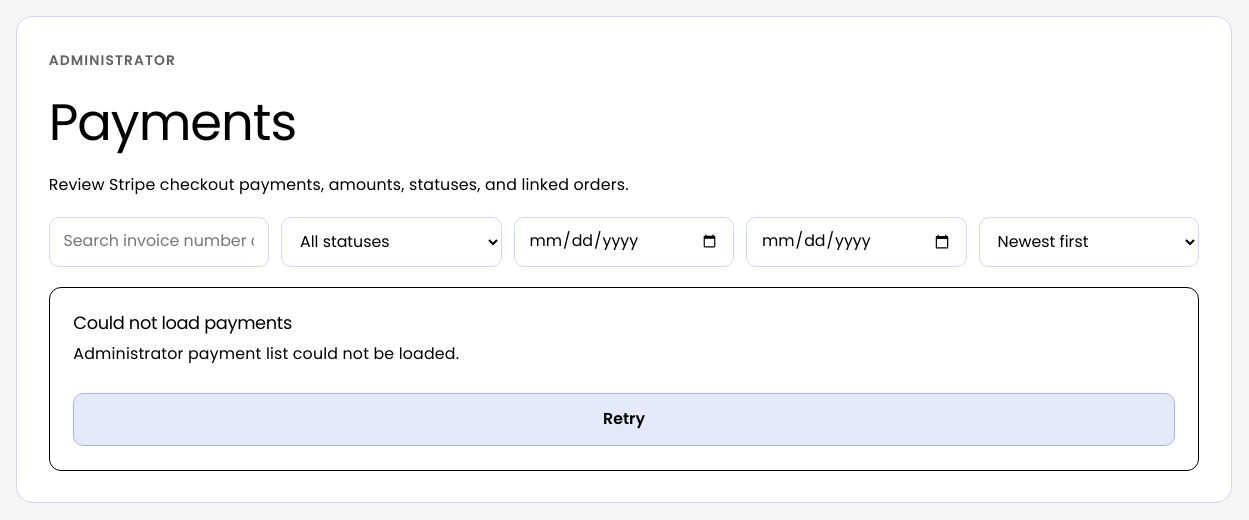
AdminPaymentsPage › shows error state and retries
The image size is (1249, 520).
Expected: the heading "Could not load payments" is shown, [73,310,292,335]
Click the button "Retry". click: (624, 420)
box: [73,393,1175,446]
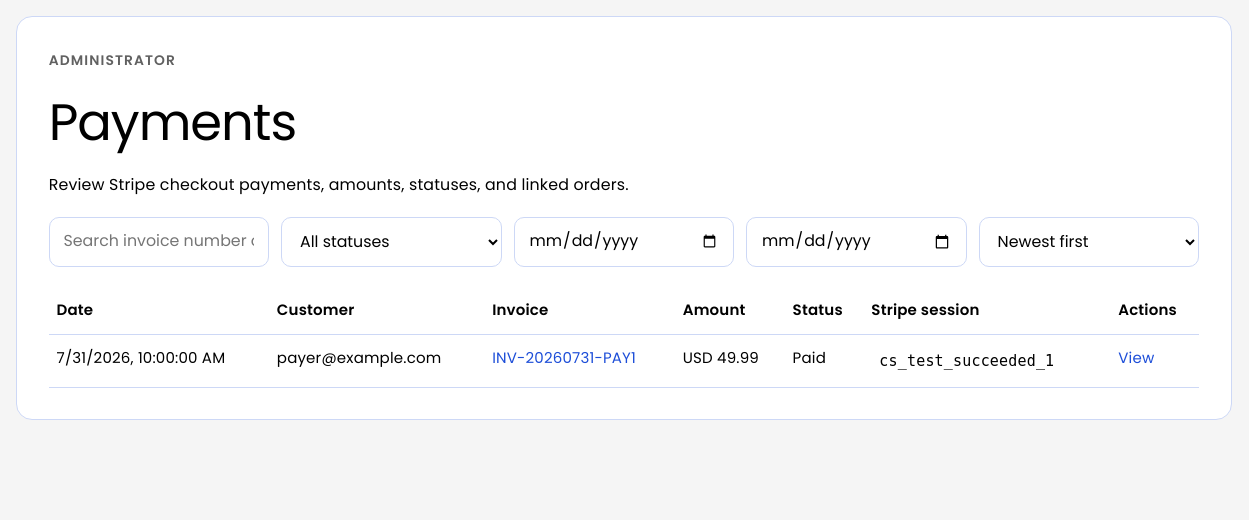
Result: the text "payer@example.com" is shown at [269,334,484,387]
